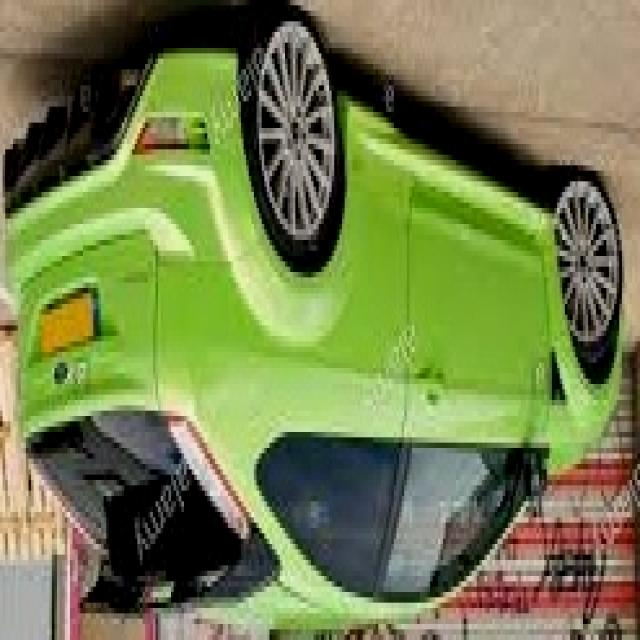green: (3, 0, 625, 628)
